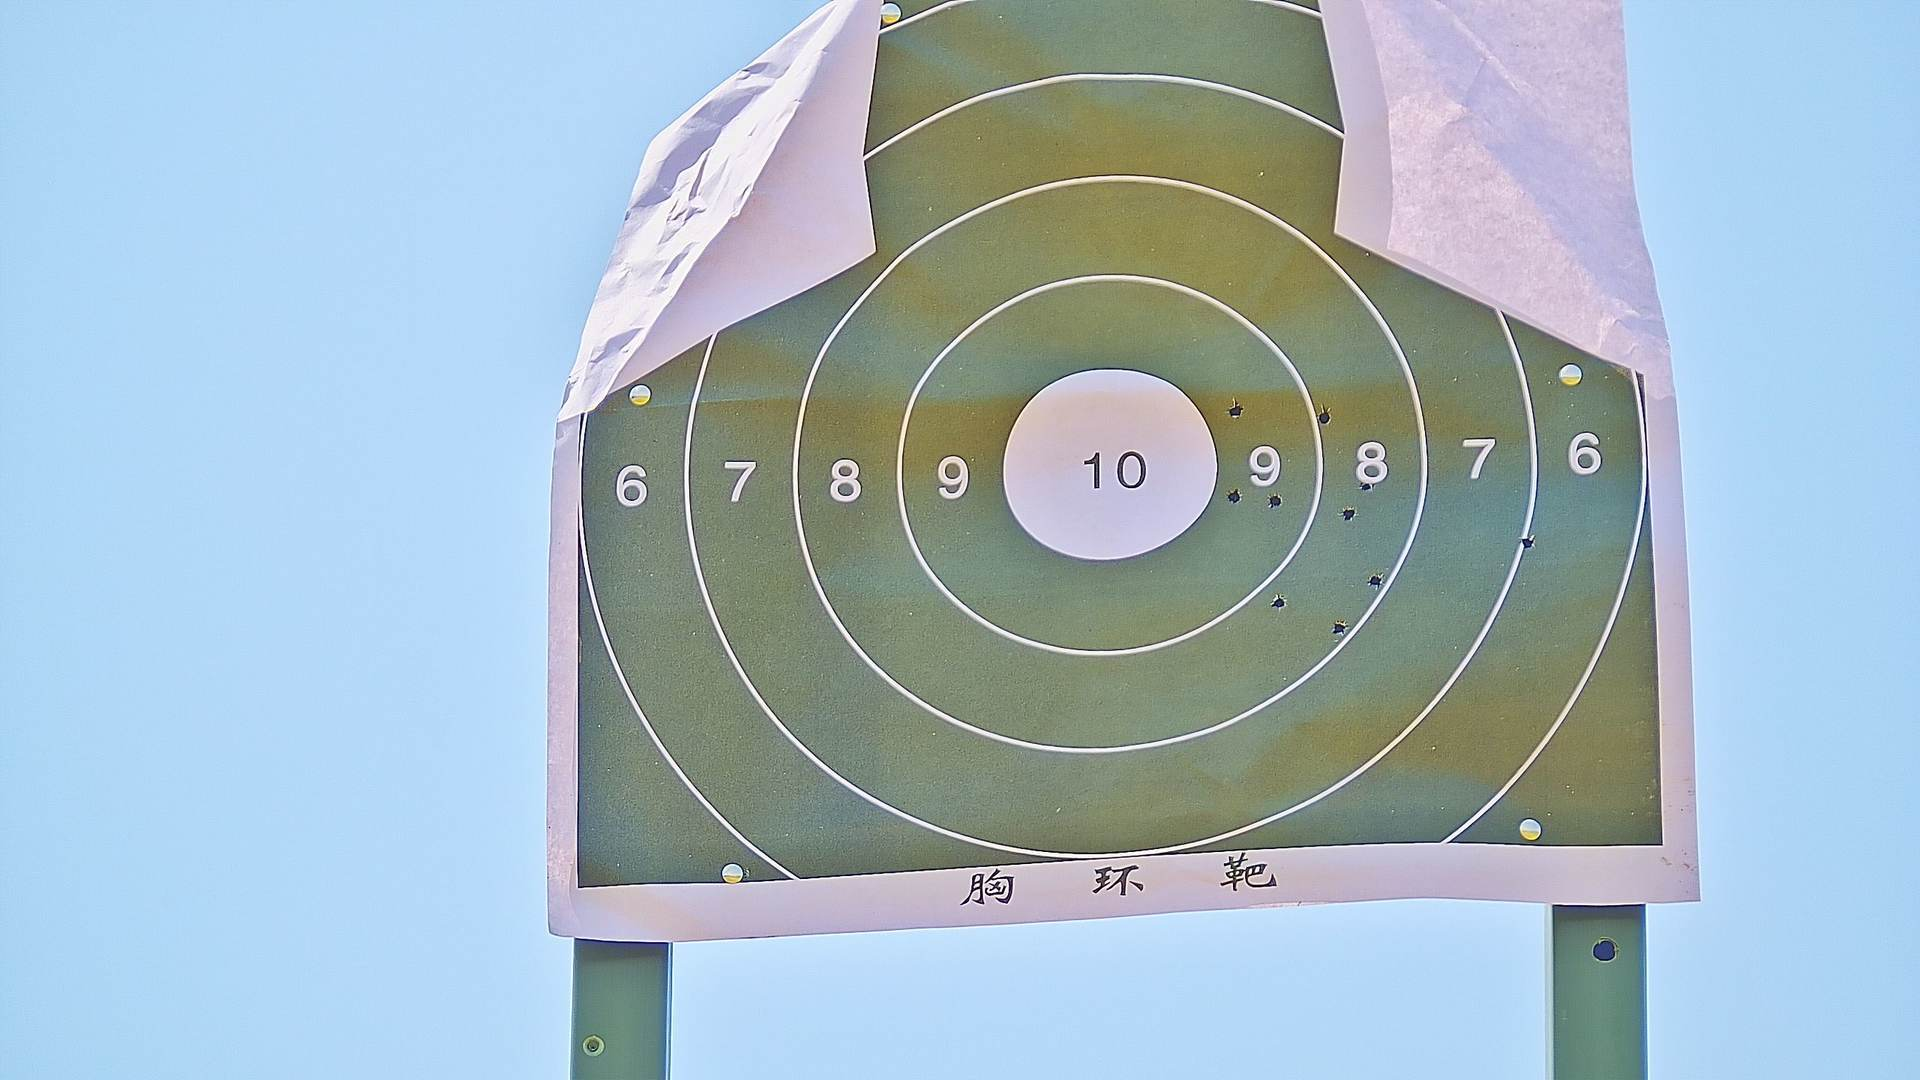hole: (1226, 488, 1241, 506), (1367, 571, 1382, 589), (1317, 410, 1332, 427), (1332, 620, 1346, 637), (1520, 535, 1538, 550), (1266, 492, 1282, 506), (1271, 593, 1284, 611), (1361, 479, 1374, 493), (1342, 506, 1354, 521), (1230, 404, 1241, 419)
kernel: (1105, 472, 1113, 476)
target: (578, 3, 1659, 857)
ten: (1001, 365, 1218, 564)
